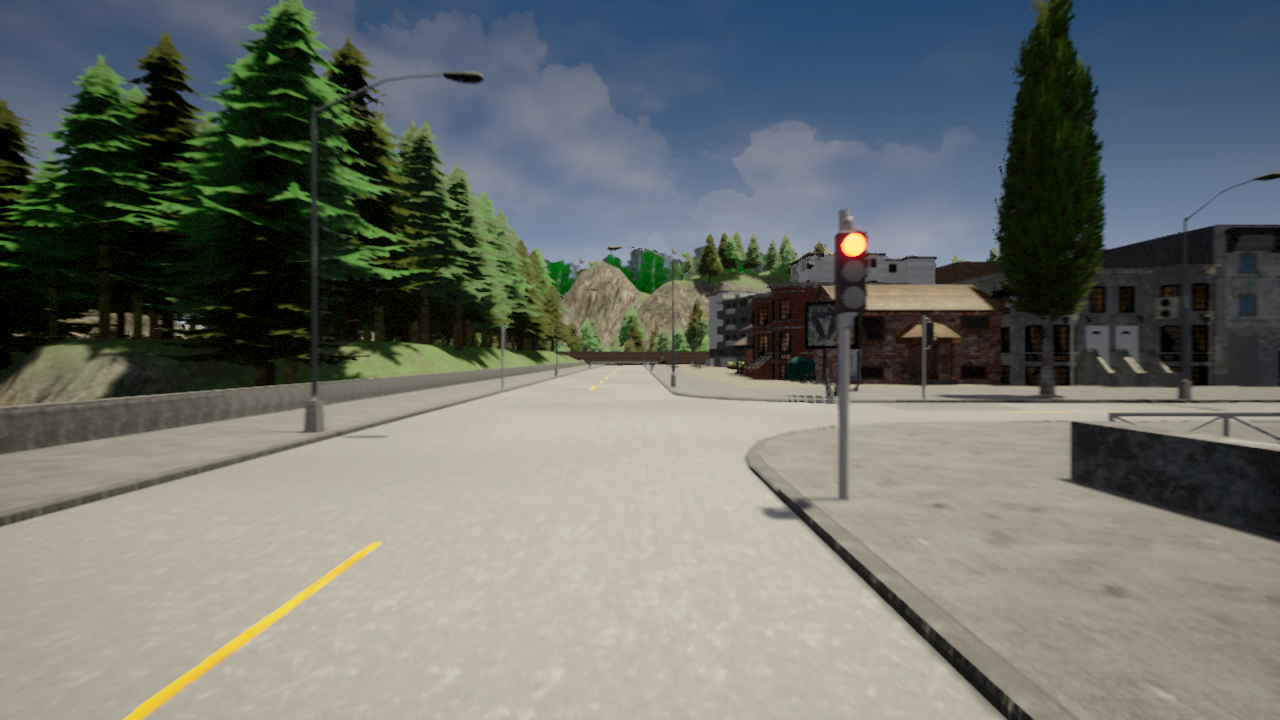red: (833, 228, 869, 314)
